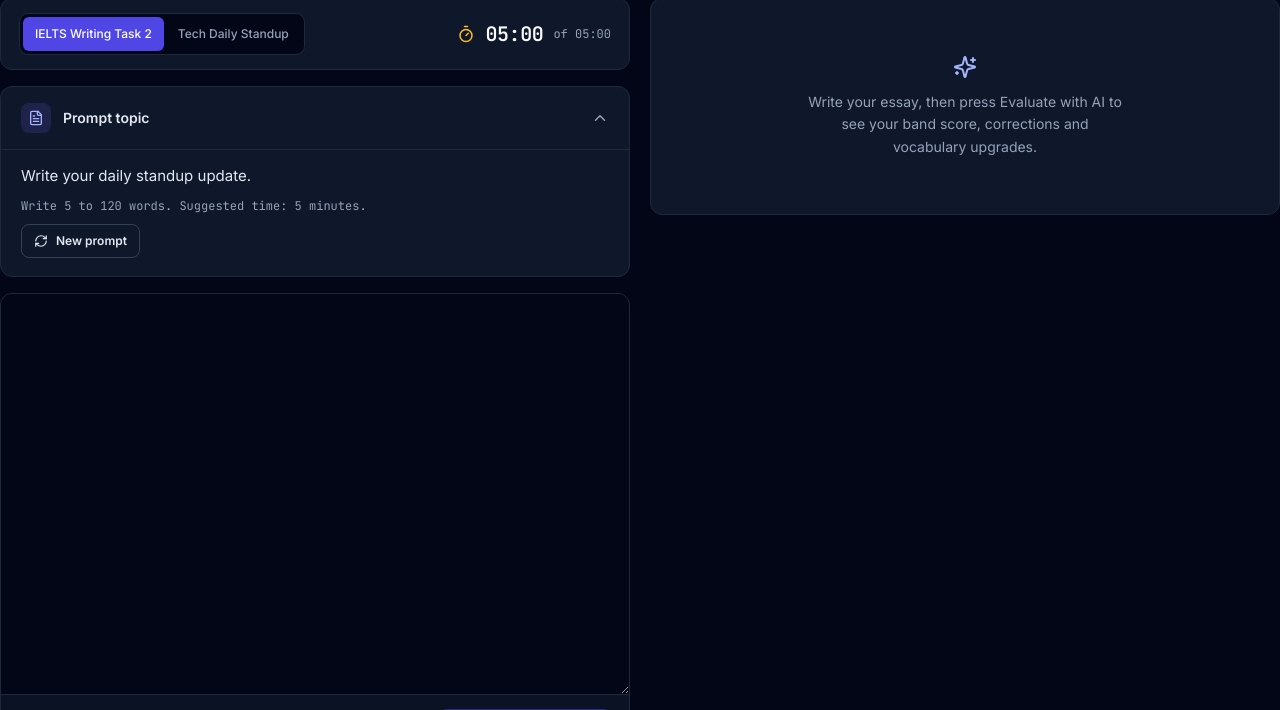
Test: Evaluate is disabled below the minimum word count and enabled at it
Click the button "Tech Daily Standup".
click(233, 34)  # box x1=166 y1=17 x2=301 y2=51
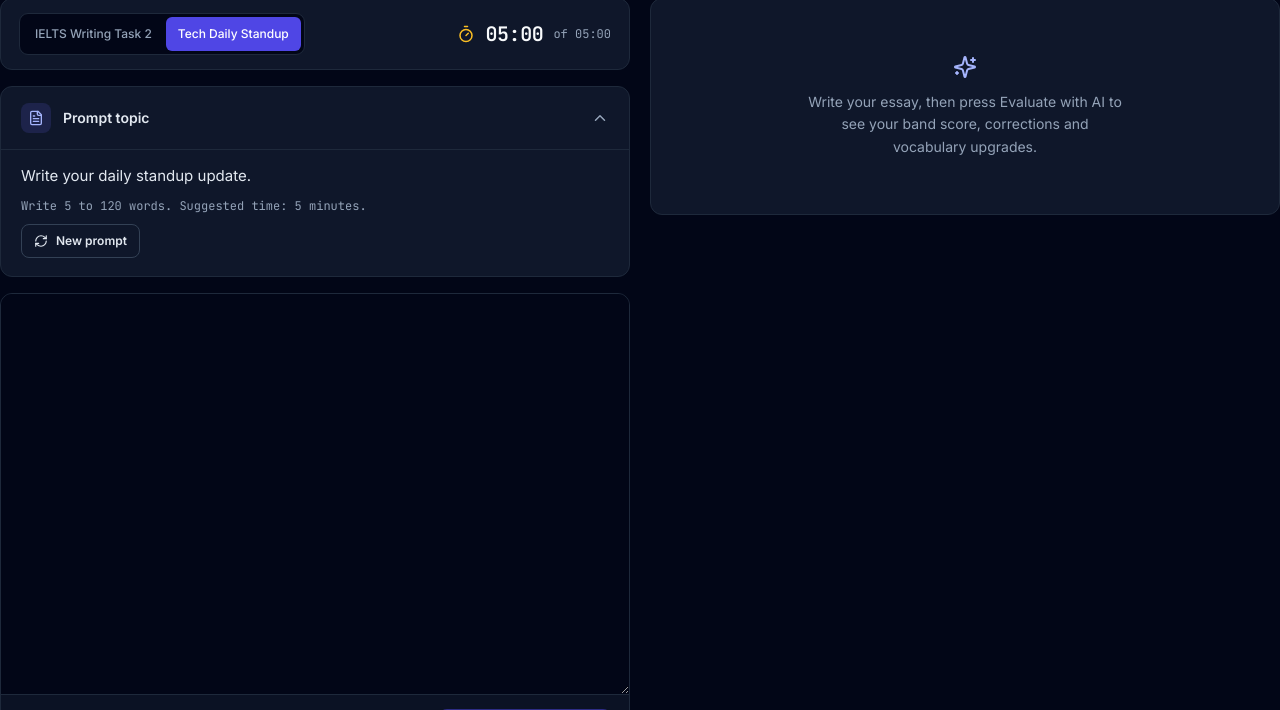
Expected: the text "Write your daily standup update." is shown, x1=21 y1=166 x2=251 y2=185
Type "one two three four" into the text box named "Your essay".
click(315, 494); type("one two three four")  # box x1=1 y1=294 x2=629 y2=694
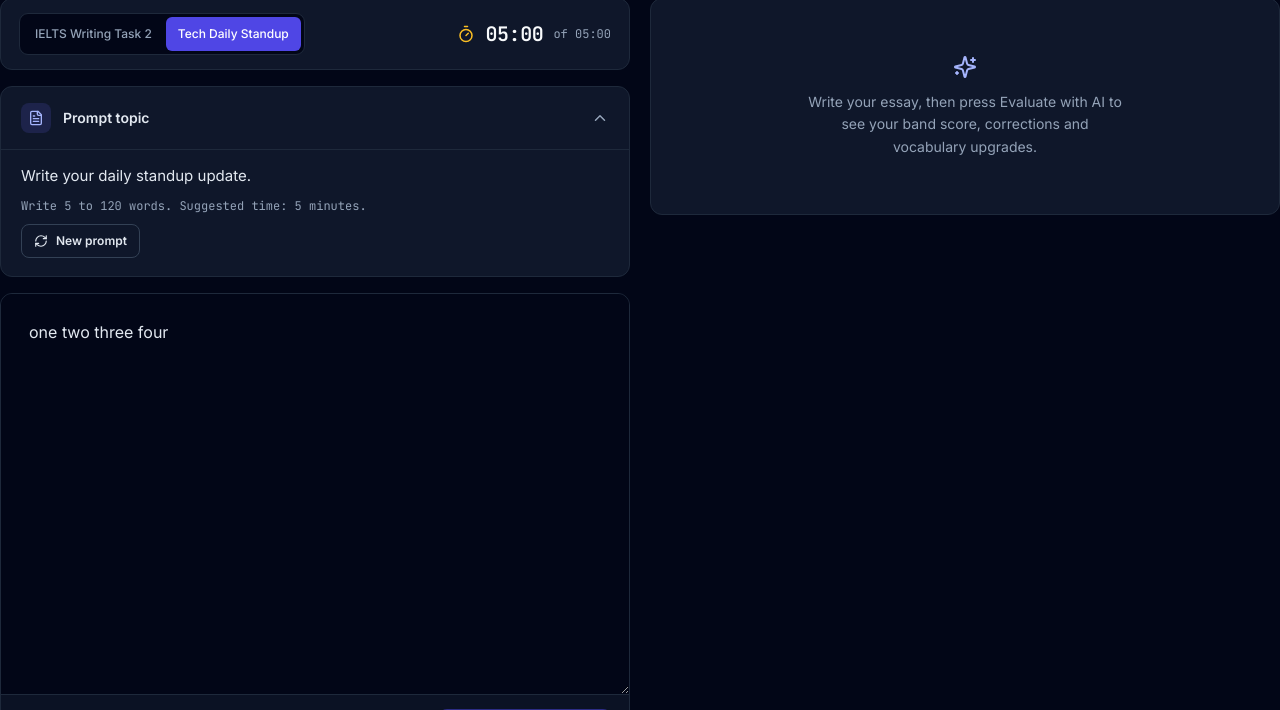
Type " five" into the text box named "Your essay".
click(315, 494); type(" five")  # box x1=1 y1=294 x2=629 y2=694
(page scrolled)
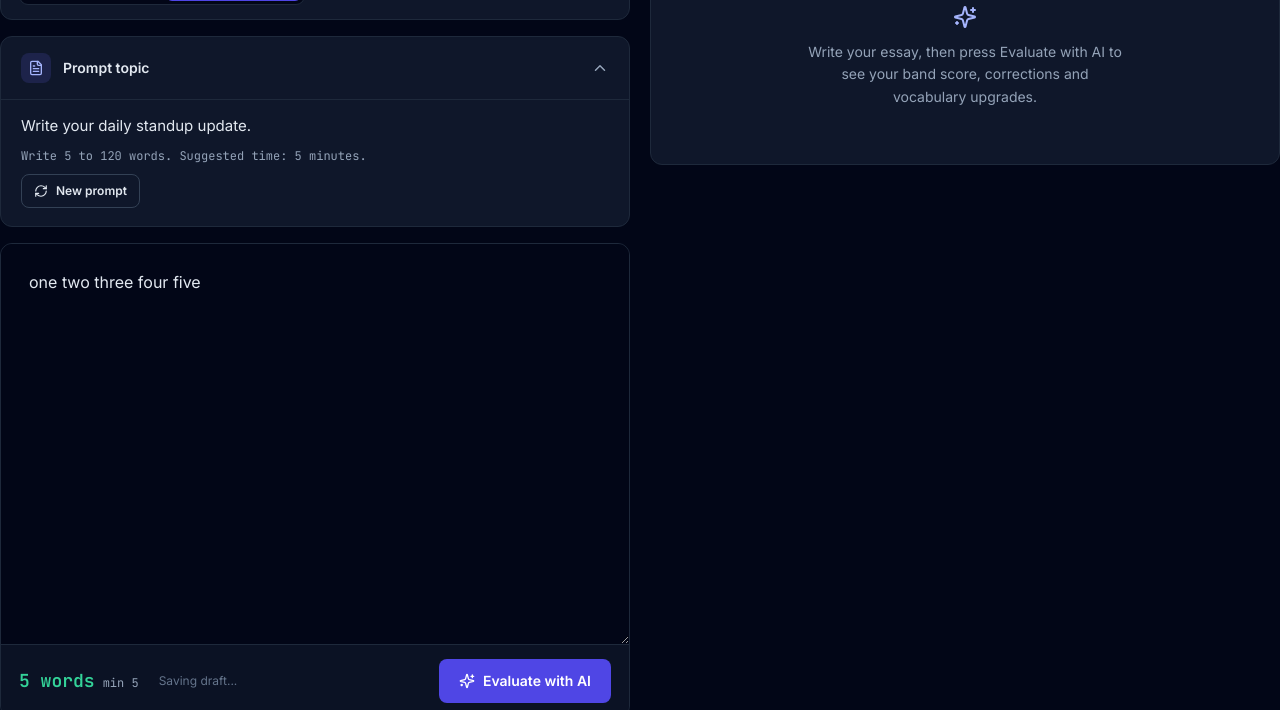
Expected: the button "Evaluate with AI" is enabled, x1=439 y1=659 x2=611 y2=703
